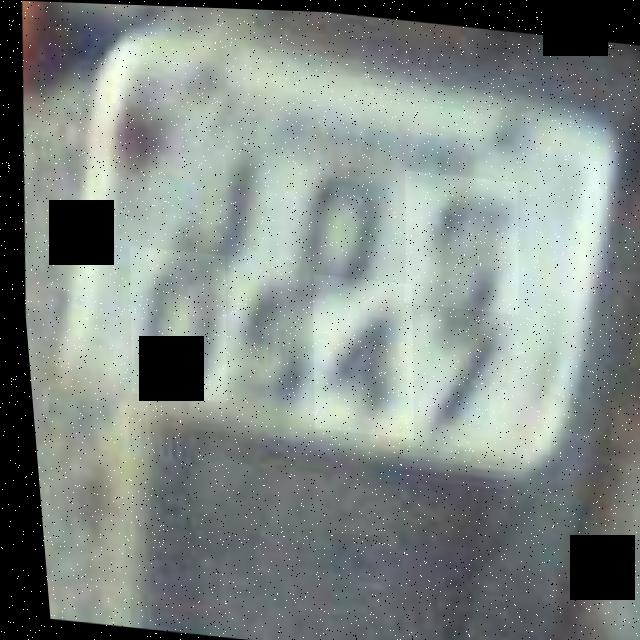0: (115, 244, 230, 401)
3: (392, 167, 522, 311)
4: (297, 271, 419, 436)
J: (130, 96, 280, 323)
O: (264, 147, 398, 299)
